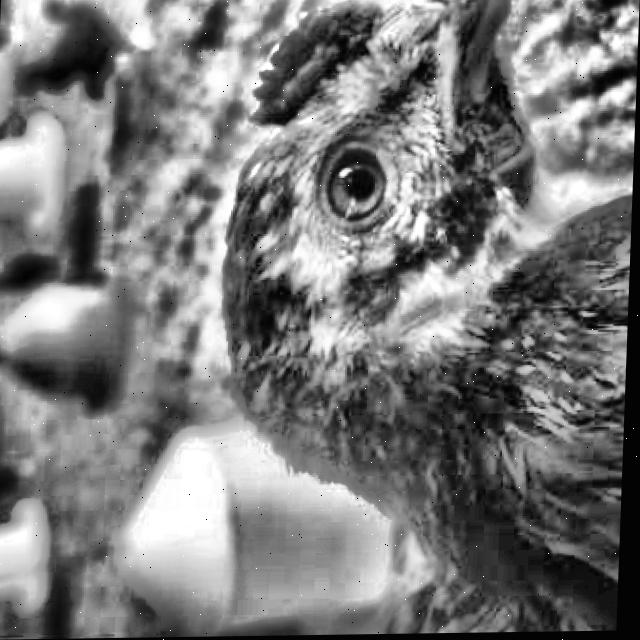Healthy: (298, 136, 407, 251)
